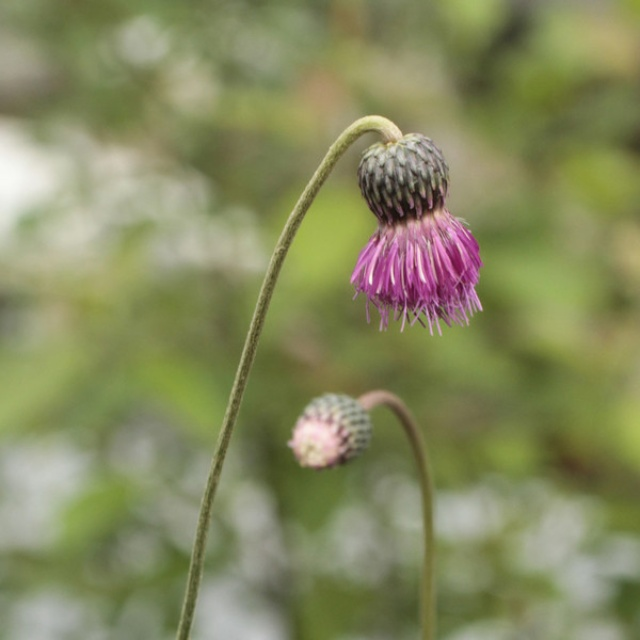obstacle: (173, 80, 480, 638)
